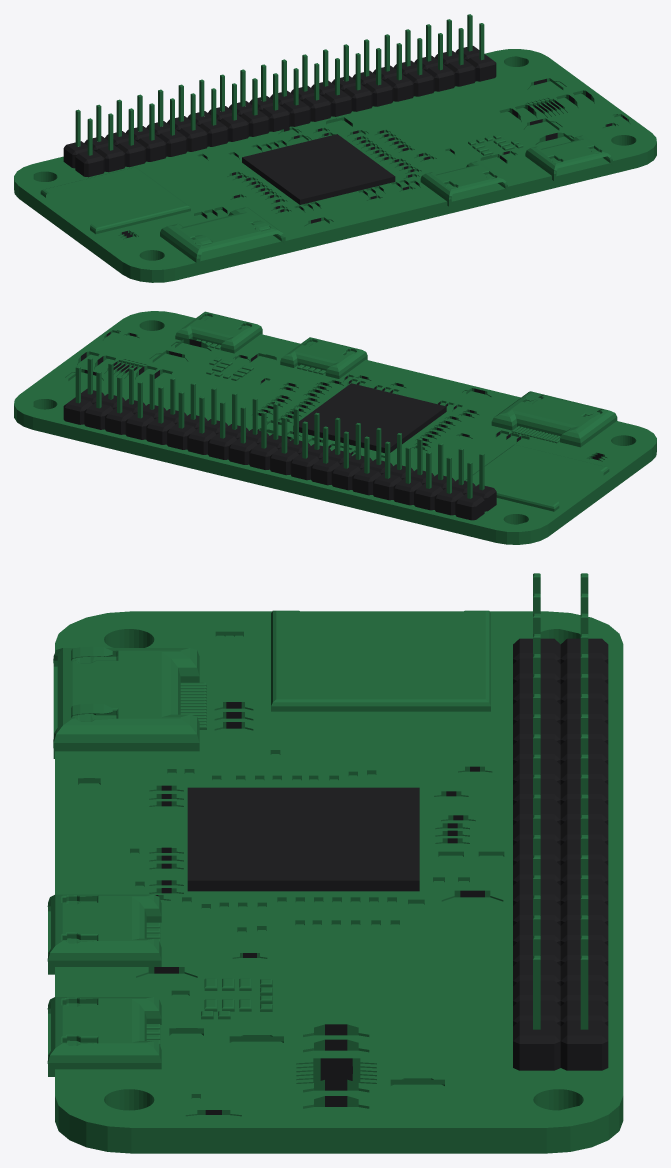
Rendered from raspberry-pi-zero.glb.
3 renders of one model, top to bottom at view 1: azimuth 30°, elevation 25°; view 2: azimuth 150°, elevation 25°; view 3: azimuth 270°, elevation 25°, orthographic. The views are drawn at different scales.
Visible parts, largest first — view 1: part_0, part_3; view 2: part_0, part_3; view 3: part_0, part_3.
Boxes of the visible parts, x1=… form: part_0: x1=14, y1=14, x2=656, y2=282; part_3: x1=63, y1=46, x2=626, y2=237; part_0: x1=14, y1=311, x2=656, y2=544; part_3: x1=63, y1=332, x2=603, y2=520; part_0: x1=47, y1=573, x2=623, y2=1153; part_3: x1=154, y1=638, x2=608, y2=1114.
Size of the model in its own units: 1.4 by 0.1633 by 0.658.
